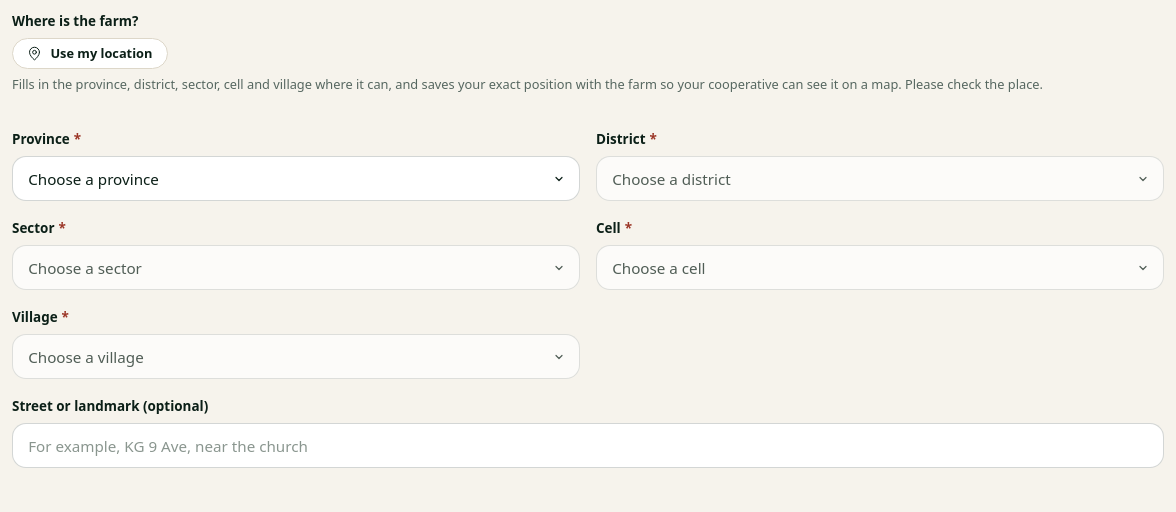
Test: Use my location › fills the cell and asks for the village when the server knows only the cell
This screenshot has width=1176, height=512.
Click the button "Use my location": (90, 53) [12,38,168,69]
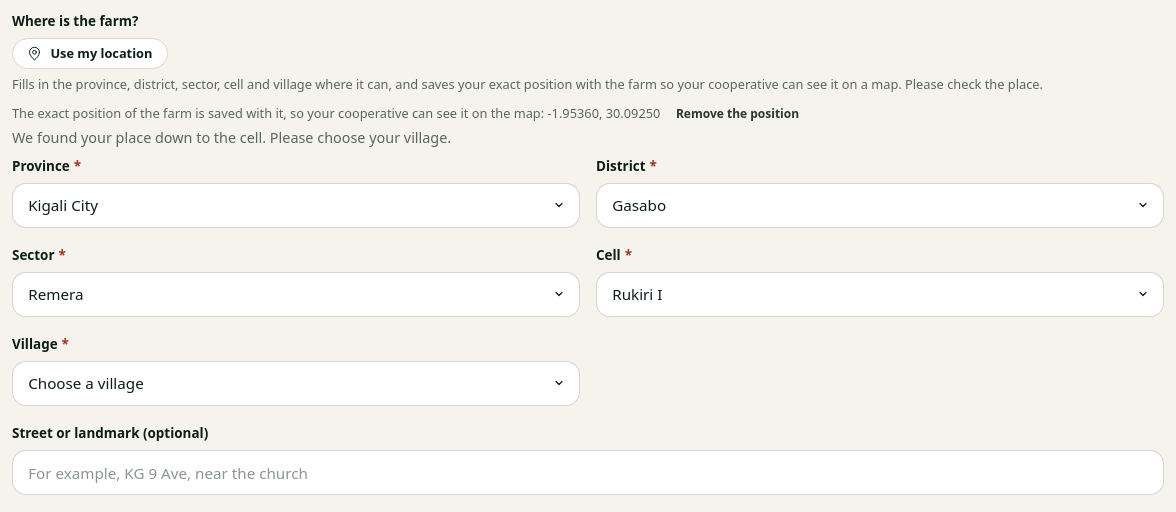
Expected: the dropdown labelled "Cell *" shows "Rukiri I", [596,272,1164,317]
Expected: the message reads "We found your place down to the cell. Please choose your village.", [12,128,451,147]
